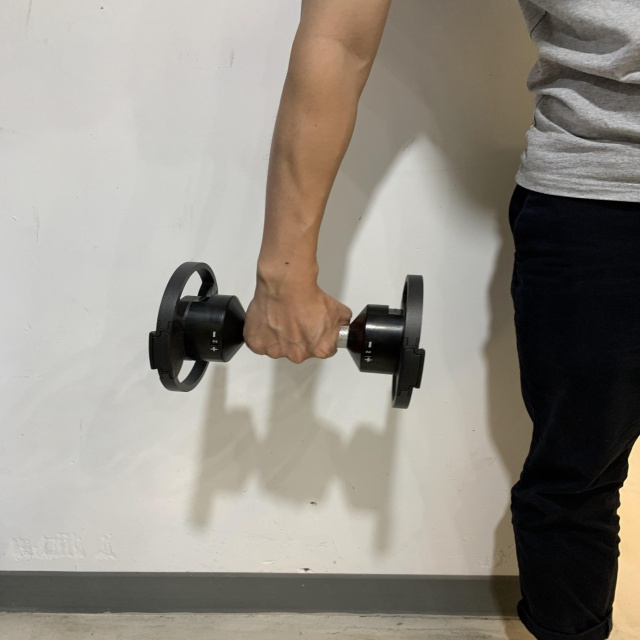01-2kg: (147, 259, 430, 409)
